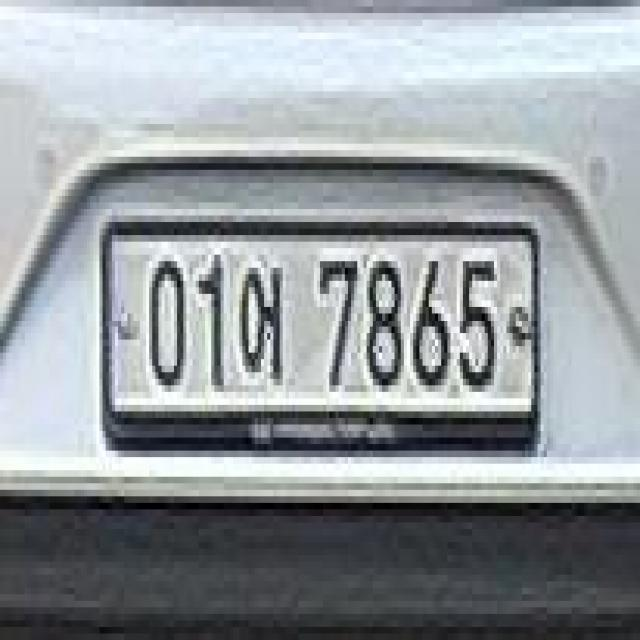illegal_plate: (96, 199, 543, 472)
